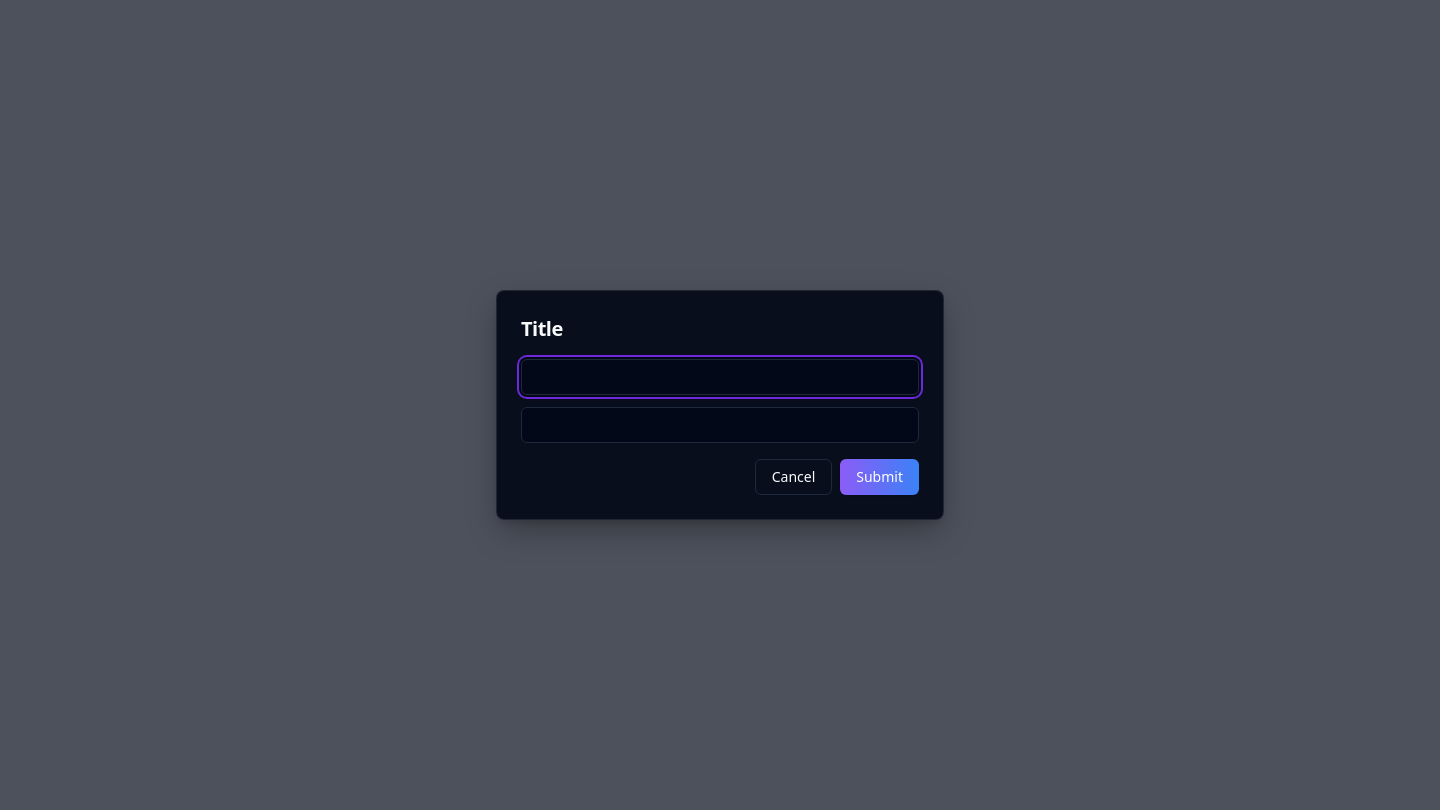
input blocks a missing required field and an out-of-range number
In the number field with id "shop": point(720, 425) [521, 407, 919, 443], type "50"
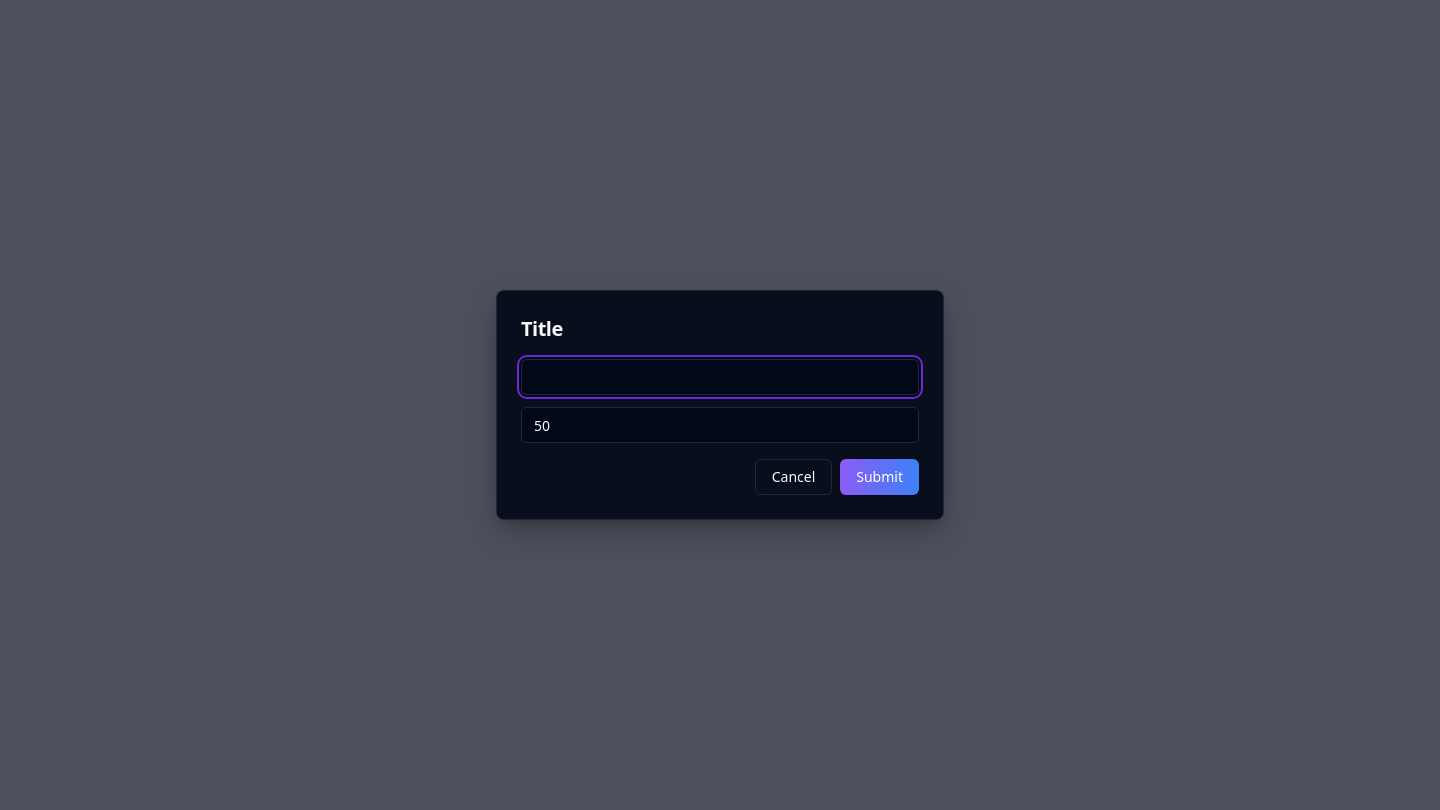
Click the button "Submit": point(880, 477) [840, 459, 919, 495]
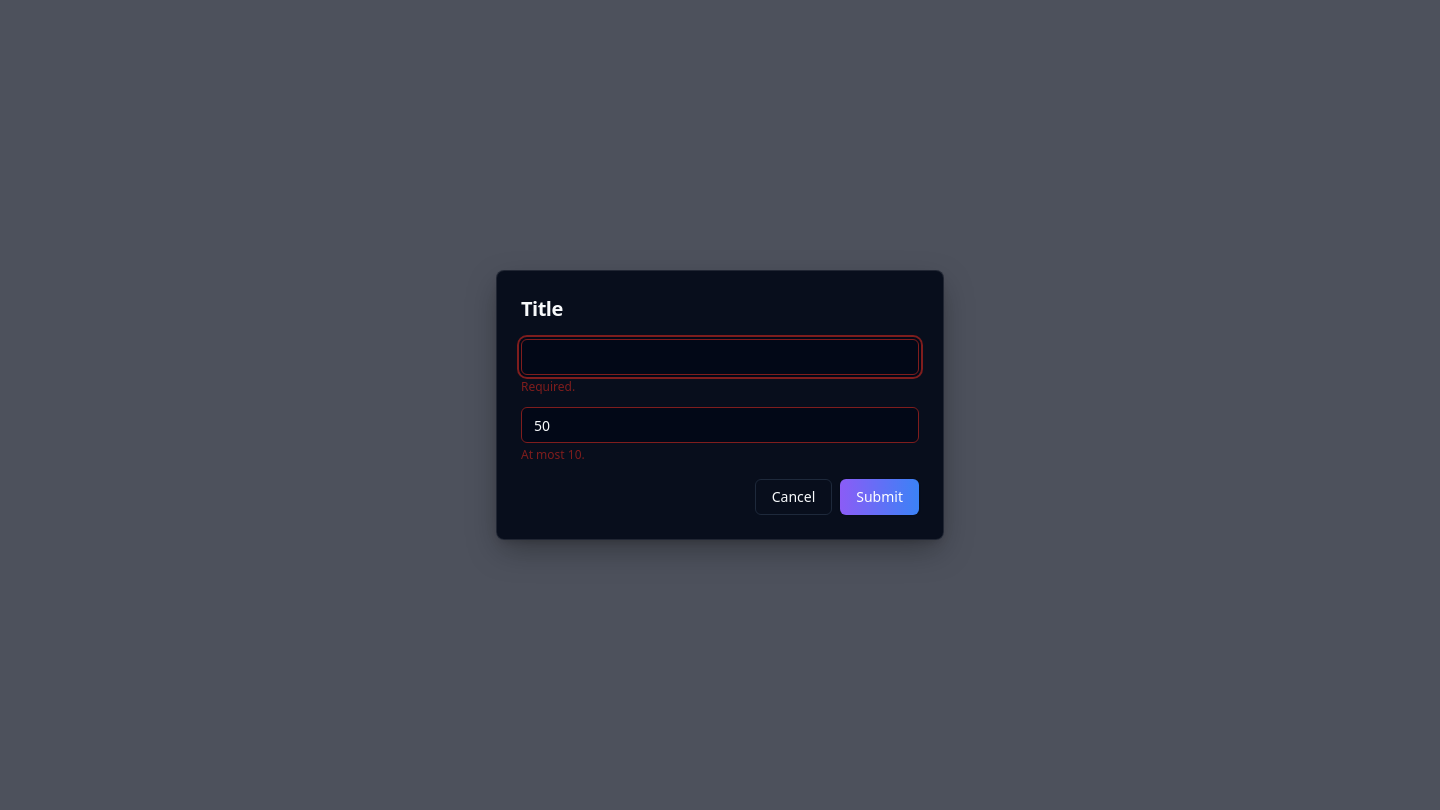
Now the text "Required." is shown once, box [521, 378, 575, 395]
Now the text "At most 10." is shown, box [521, 446, 585, 463]
